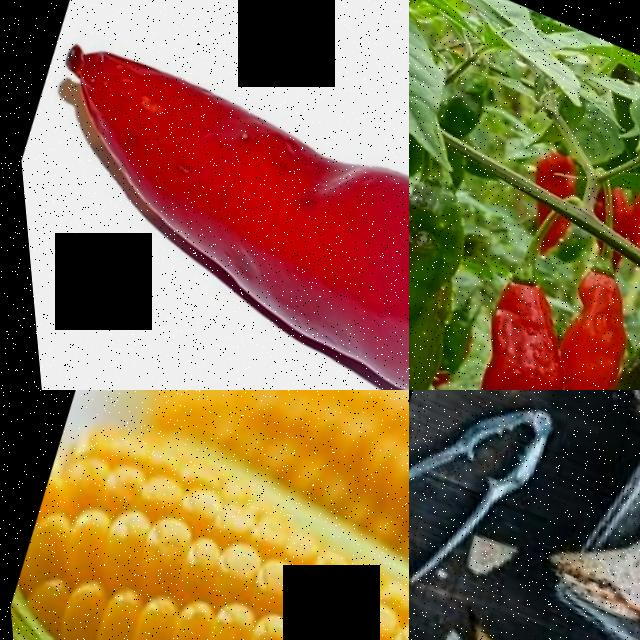chilli: (4, 0, 409, 390), (423, 252, 594, 390), (409, 146, 492, 388), (510, 247, 640, 390)
corn: (0, 408, 409, 640)
crab: (449, 564, 640, 640)
